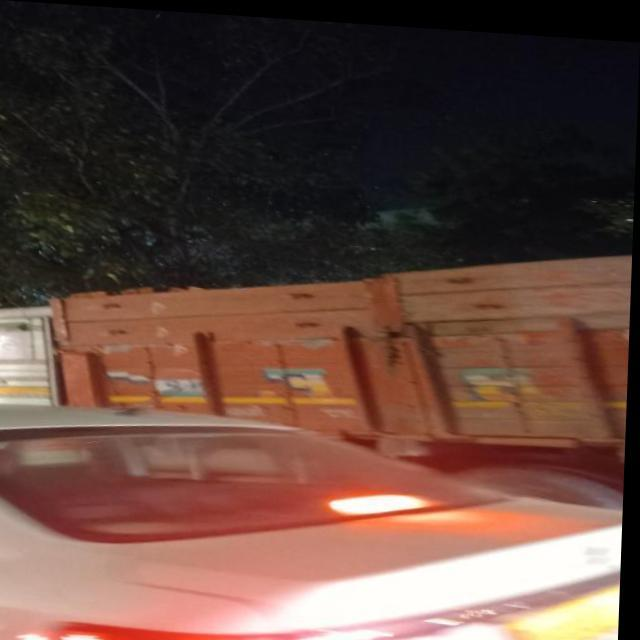uncovered: (0, 206, 634, 421)
